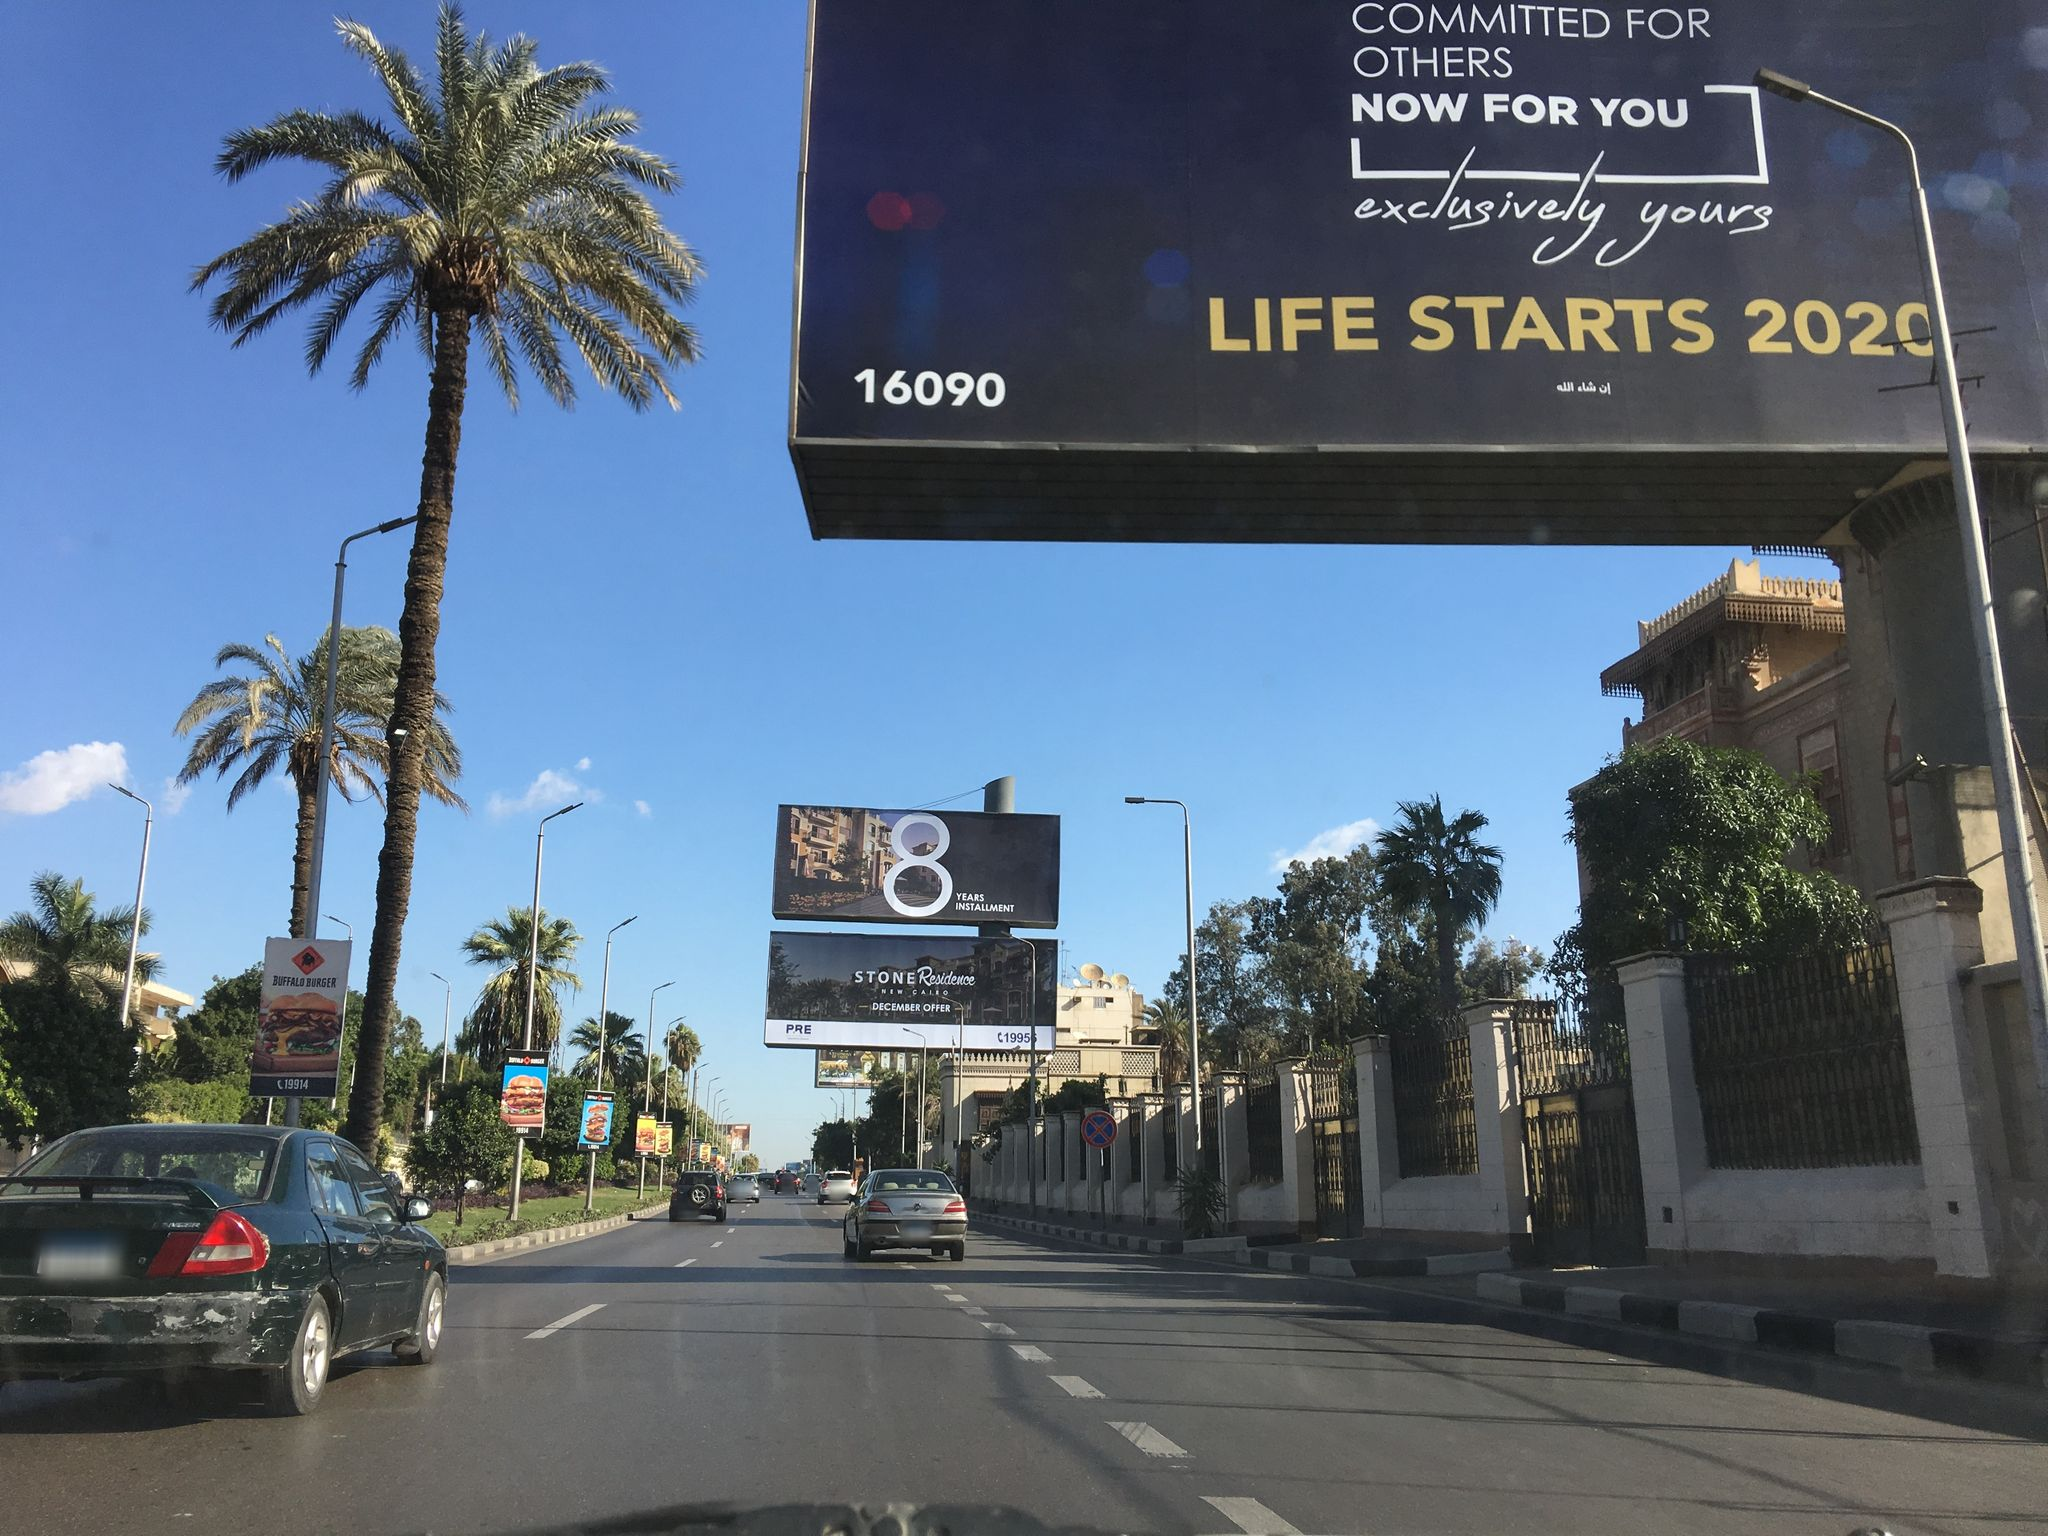car: (0, 1121, 455, 1415), (843, 1168, 969, 1262), (669, 1168, 727, 1221), (816, 1170, 858, 1204), (726, 1173, 760, 1204), (772, 1171, 801, 1194), (801, 1173, 822, 1191), (756, 1171, 777, 1189)
